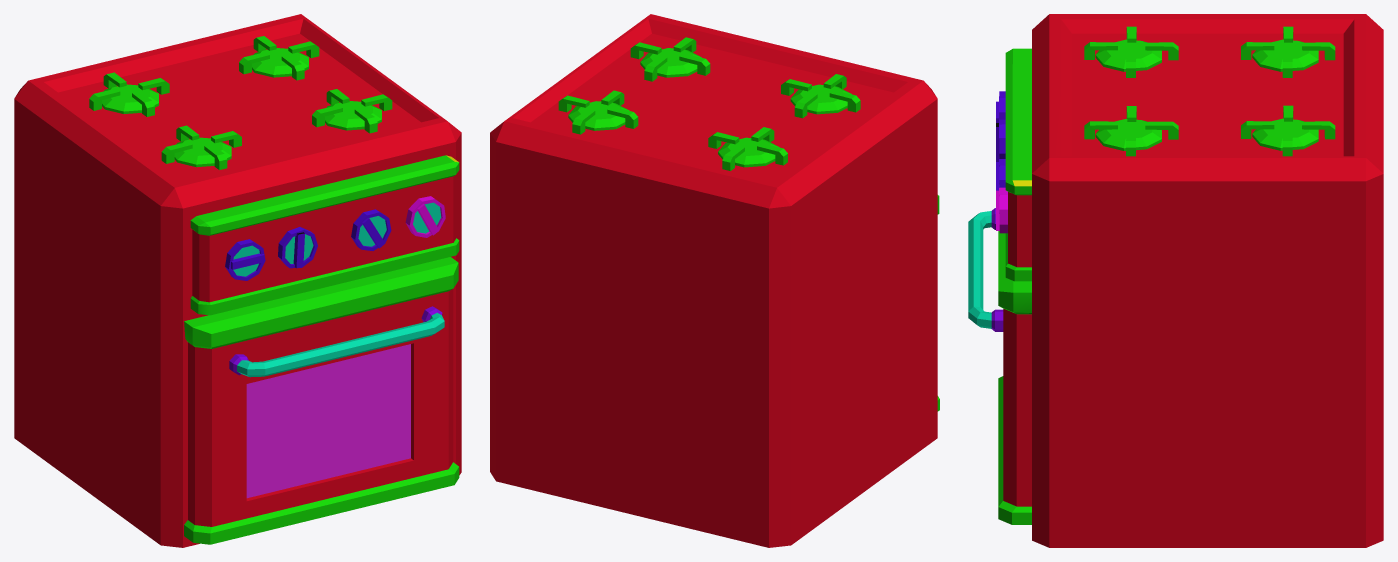
Rendered from Four_mesh_001.fbx.
The picture shows the model from 3 angles, left to right: view 1: azimuth 30°, elevation 25°; view 2: azimuth 150°, elevation 25°; view 3: azimuth 270°, elevation 25°; orthographic projection. The views are drawn at different scales.
Parts seen in each view (by area): view 1: Four; view 2: Four; view 3: Four.
Boxes of the visible parts, box(x1,y1,x2,y2) form: Four: box(14, 14, 461, 547); Four: box(490, 14, 939, 547); Four: box(968, 14, 1383, 547).
Size of the model in its own units: 80.07 by 90.92 by 88.55.
